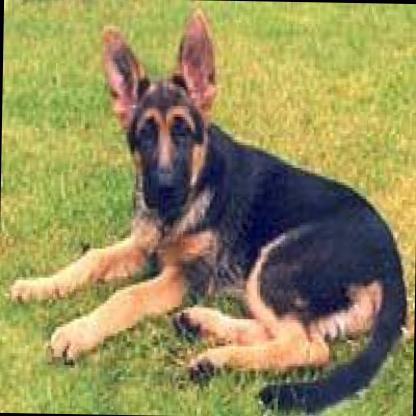German_shepherd: (9, 2, 407, 414)
